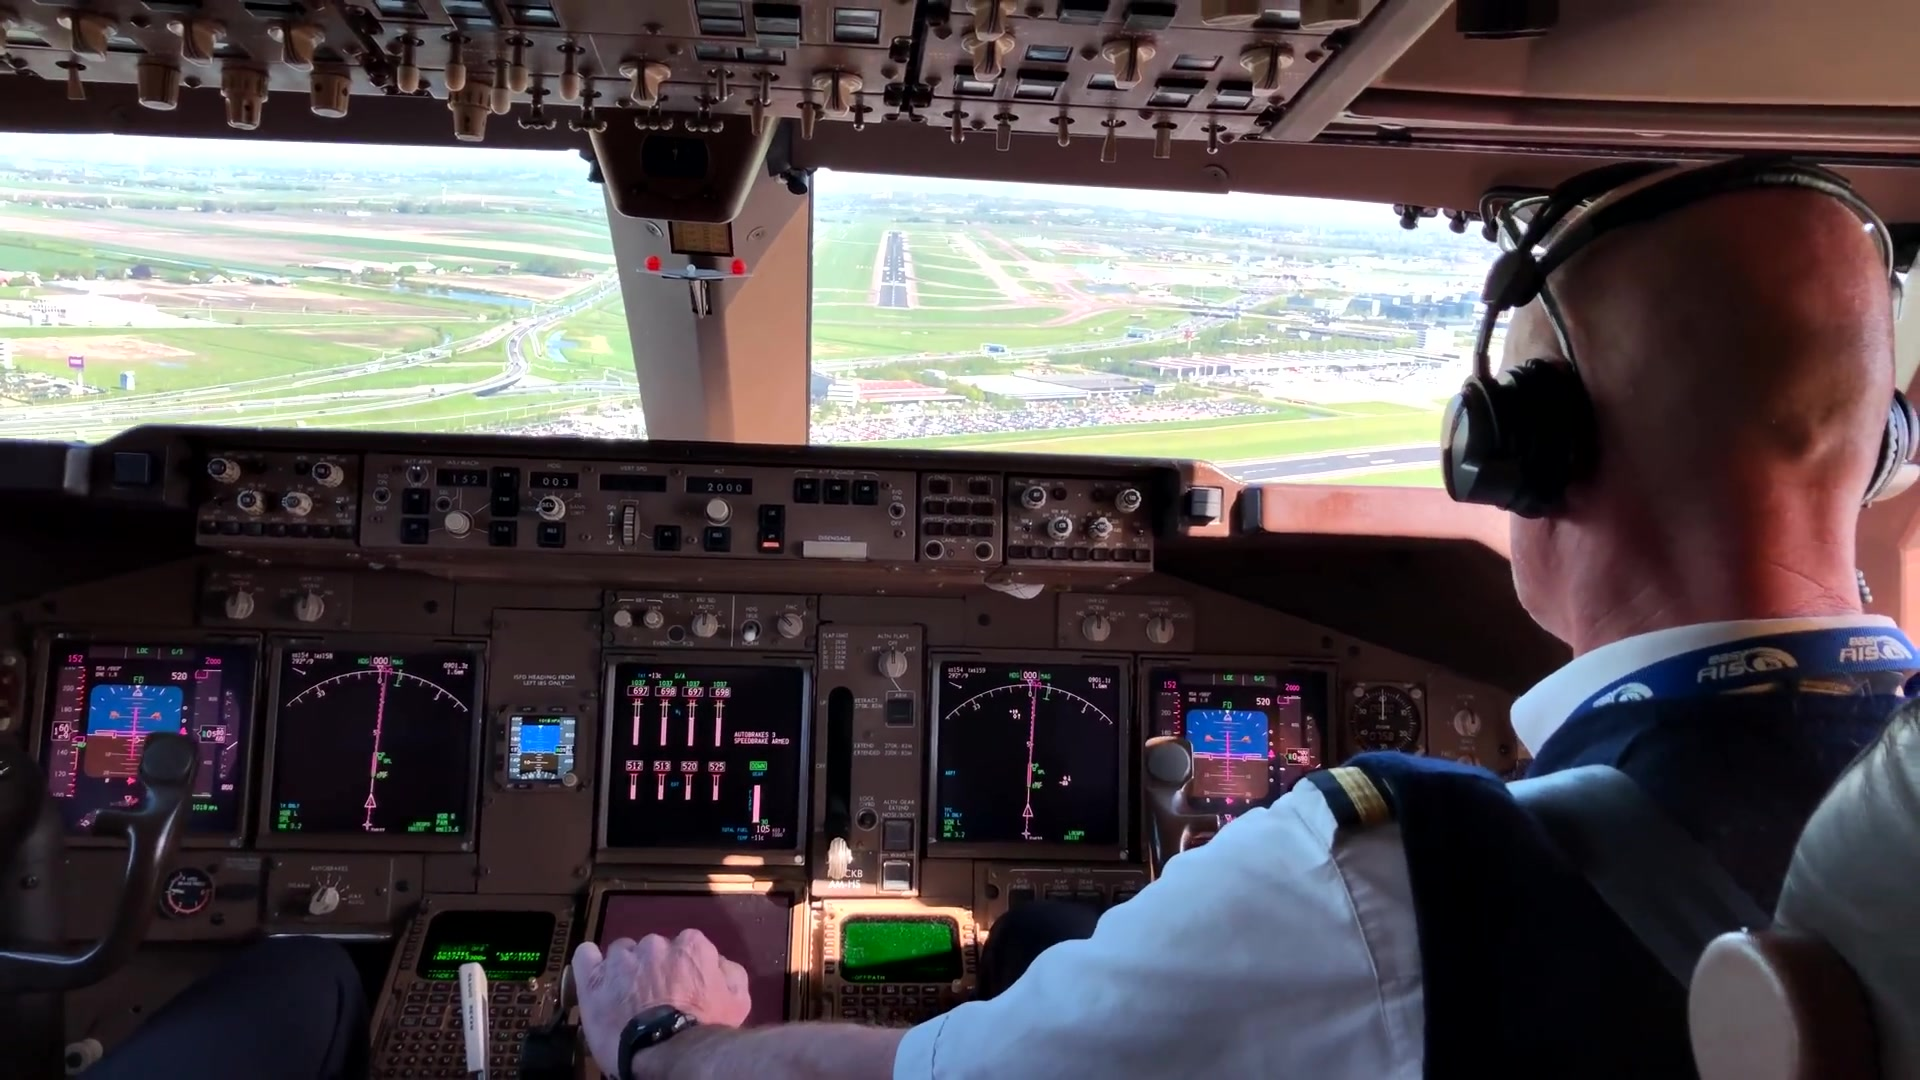runway: (872, 229, 913, 311)
